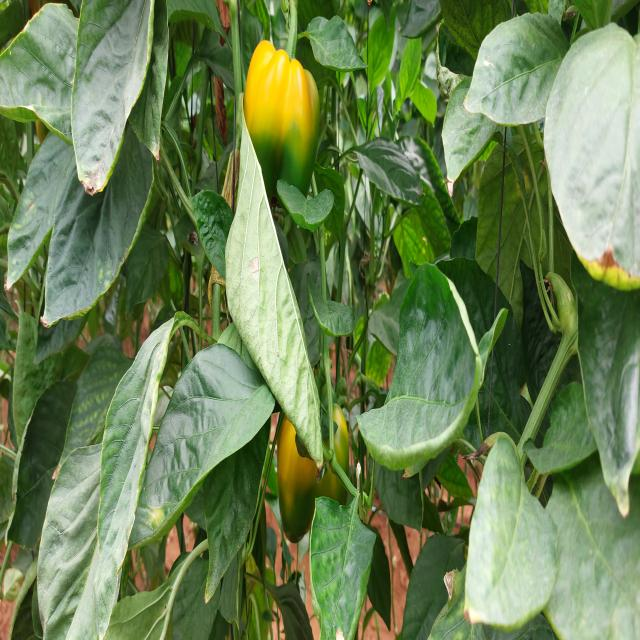Green--Not-ready-to-harvest: (224, 35, 336, 256)
GreenishYellow--Can-be-Harvested: (269, 382, 350, 556)
